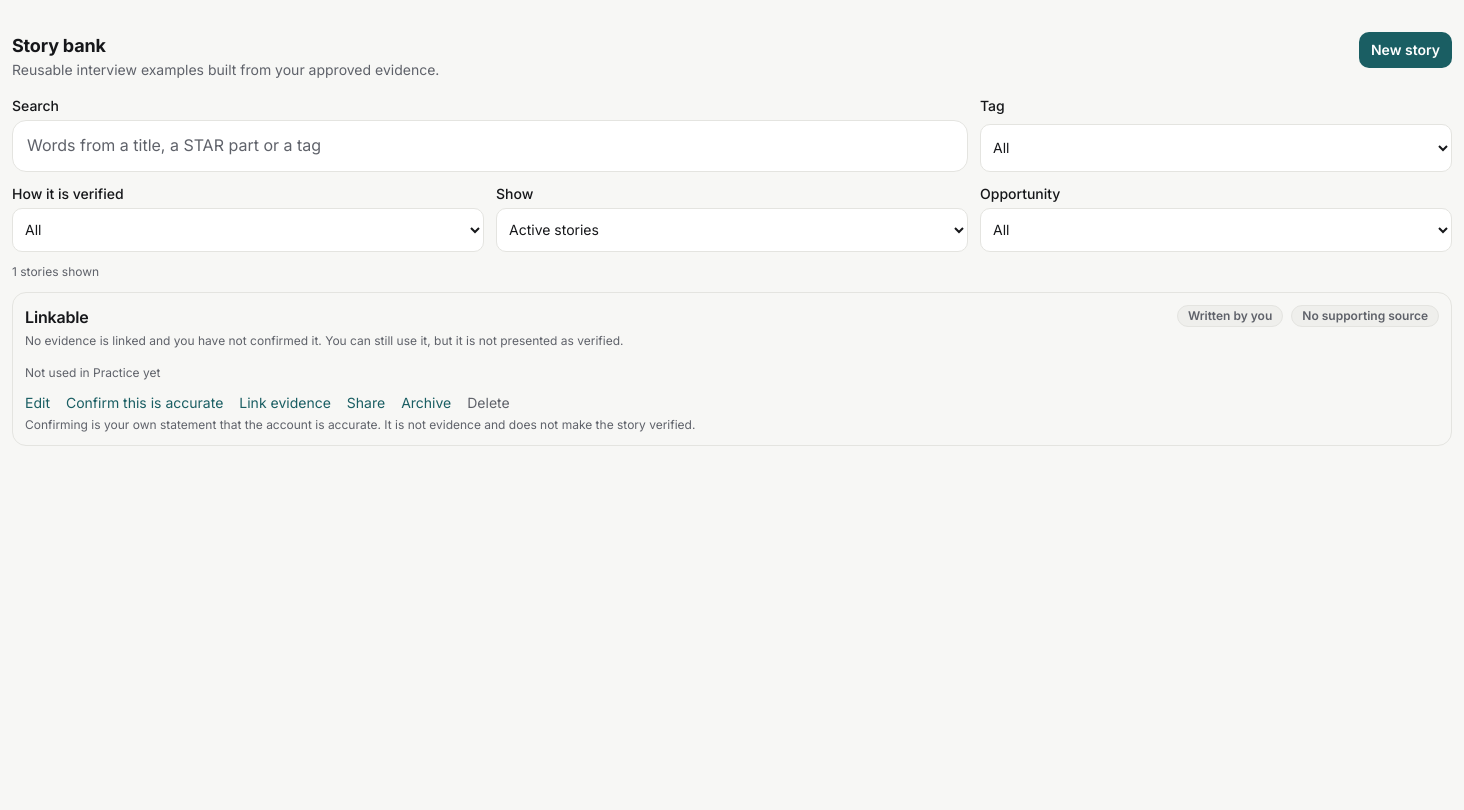
Test: StoryBank: create, edit, search, archive, delete › links a document item as evidence and a confirmation is a separate action
Click the button "Link evidence": (285, 403) [239,393,331,413]
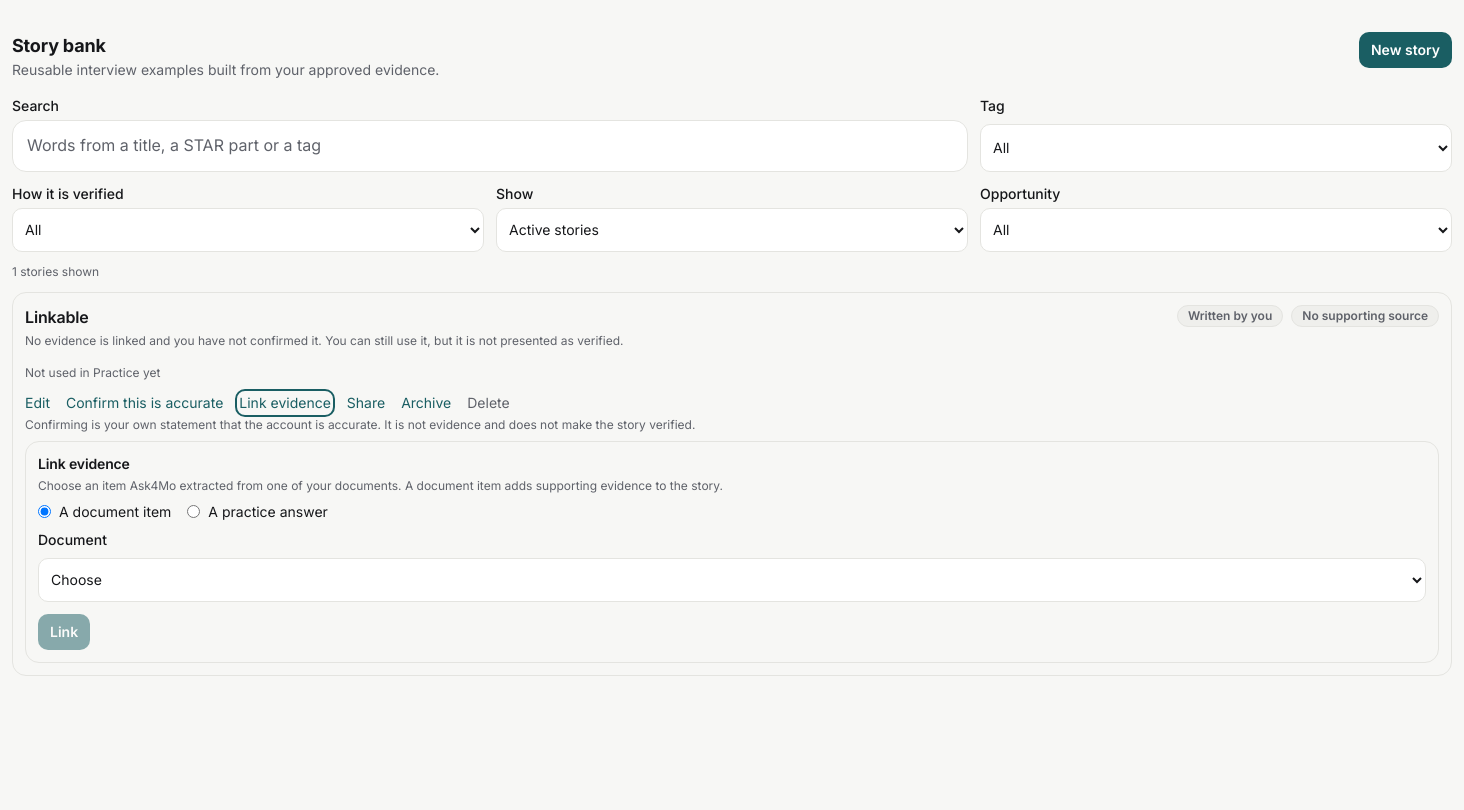
Select "cv.txt" in the dropdown labelled "Document": (732, 580) [38,558,1426,602]
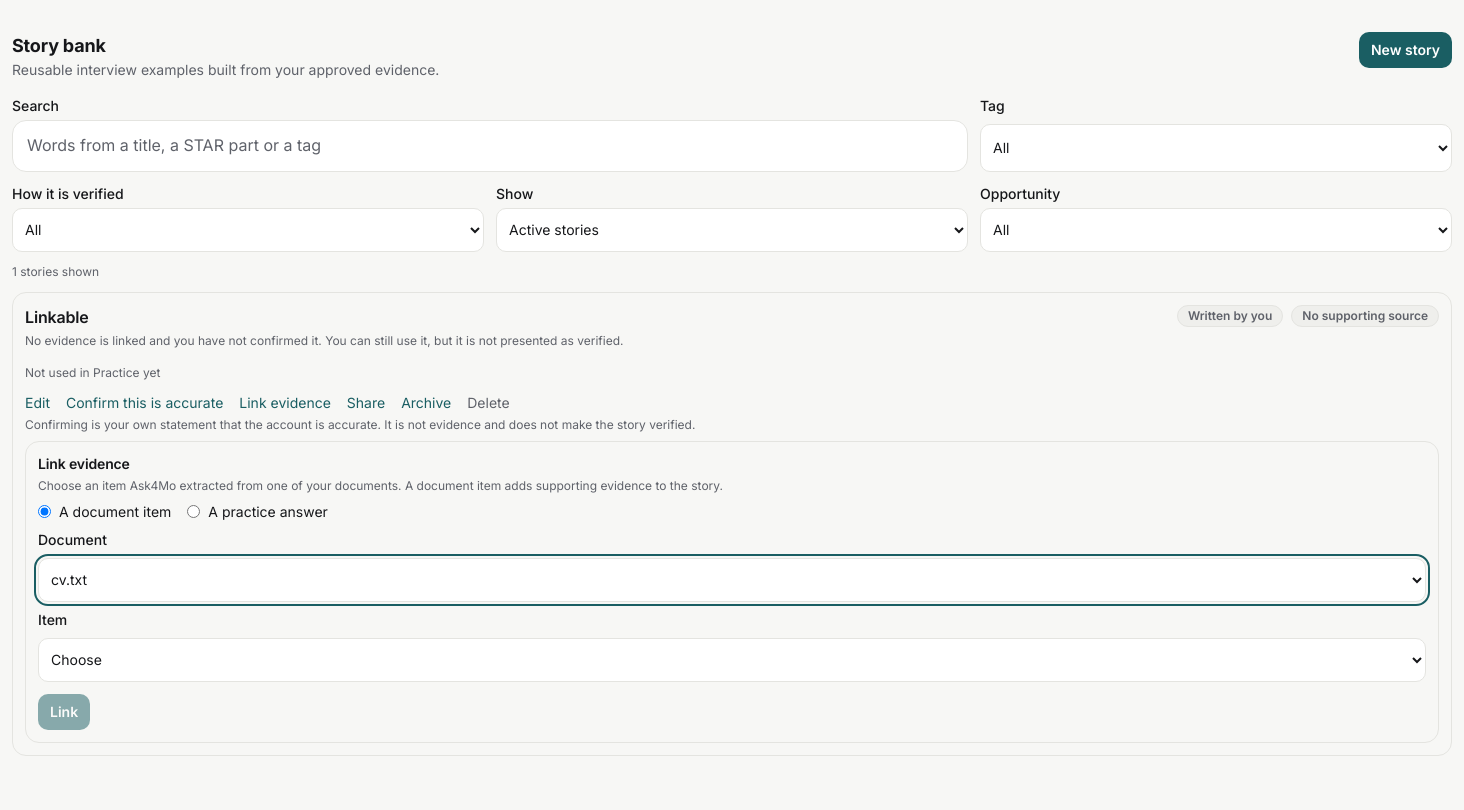
Select "Reduced latency" in the dropdown labelled "Item": (732, 660) [38,638,1426,682]
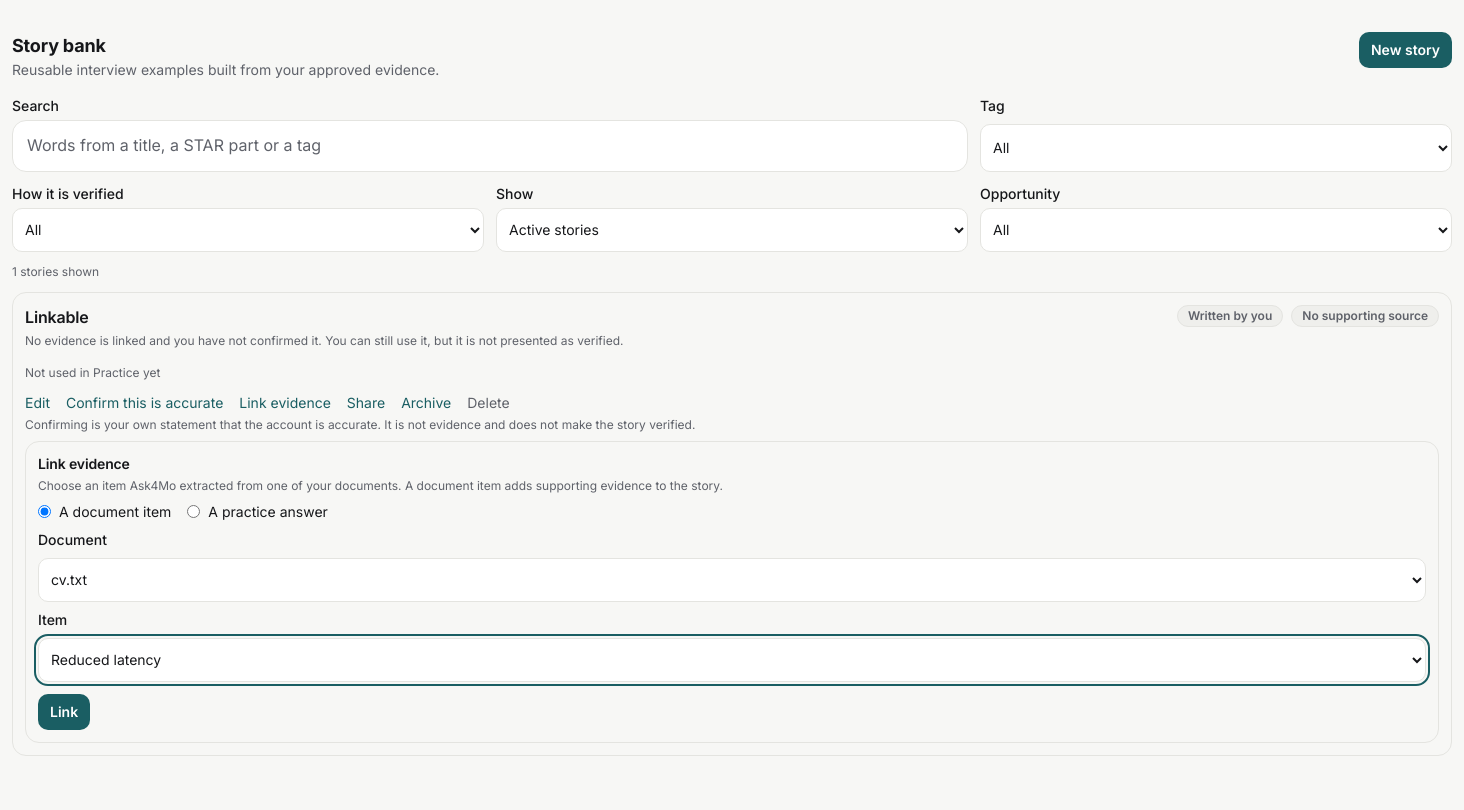
Click the button "Link": (64, 712) [38,694,90,730]
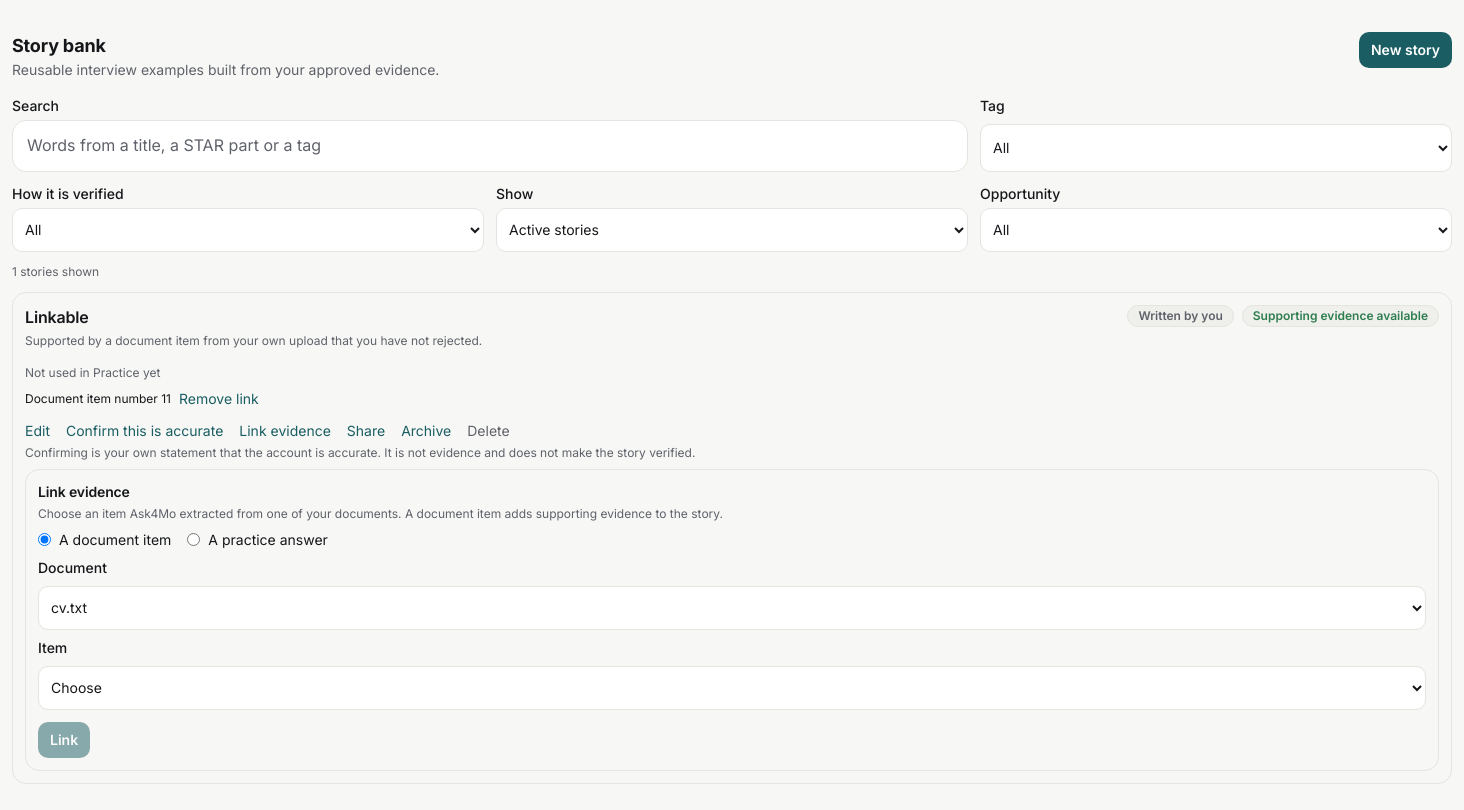
Now the text "Supporting evidence available" is shown, box [1242,305,1439,327]
Now the button "Remove link" is shown, box [179,389,259,409]
